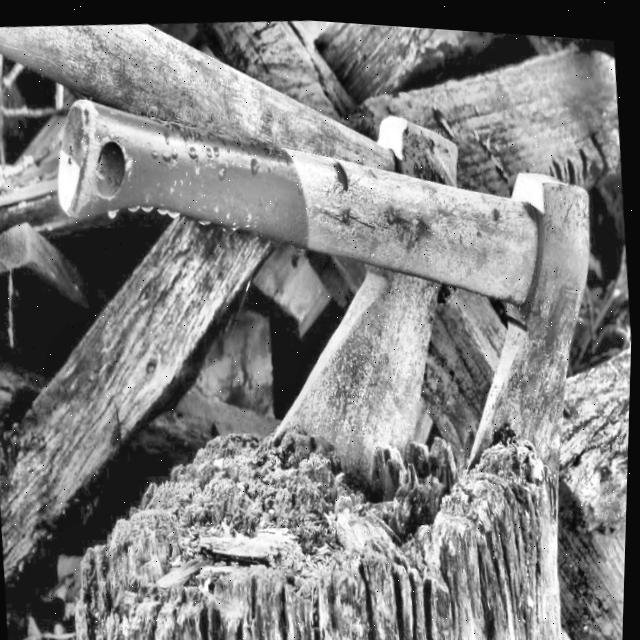kapak: (45, 87, 593, 524)
